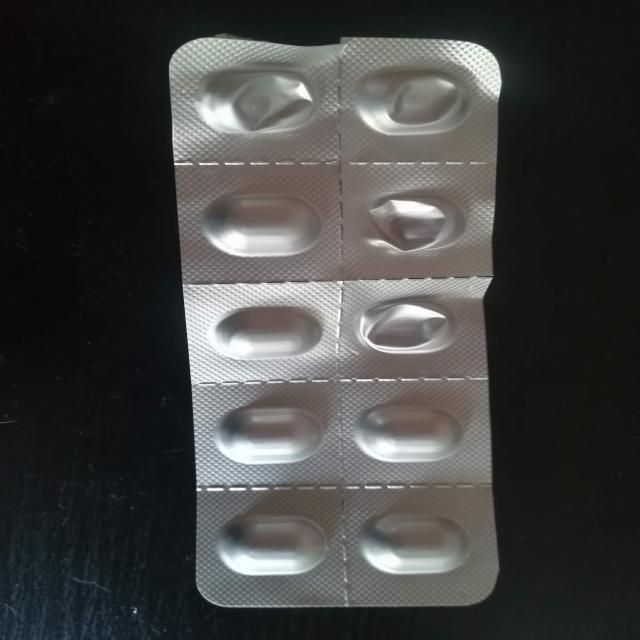Empty: (189, 60, 323, 142), (340, 186, 475, 258), (353, 63, 475, 142), (344, 293, 456, 363)
Pill: (207, 498, 331, 589), (185, 188, 329, 260), (348, 503, 471, 586), (206, 400, 340, 468), (352, 392, 467, 469), (200, 303, 323, 365)
